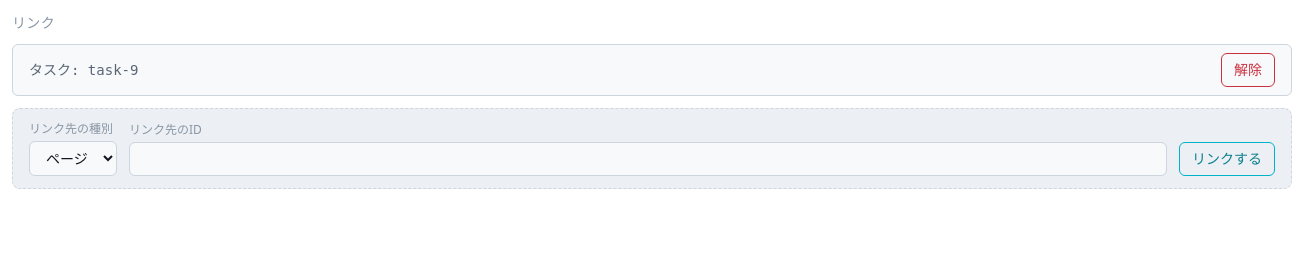
it: EntityLinks › 対象のリンクが既に無い場合はエラーメッセージを表示する
Expected: the text "タスク: task-9" is shown, [29, 60, 138, 80]
What coordinates should you click on to do the following:
click the button "解除"
I would click on:
 (1248, 70)
Its box is [1221, 53, 1275, 87].
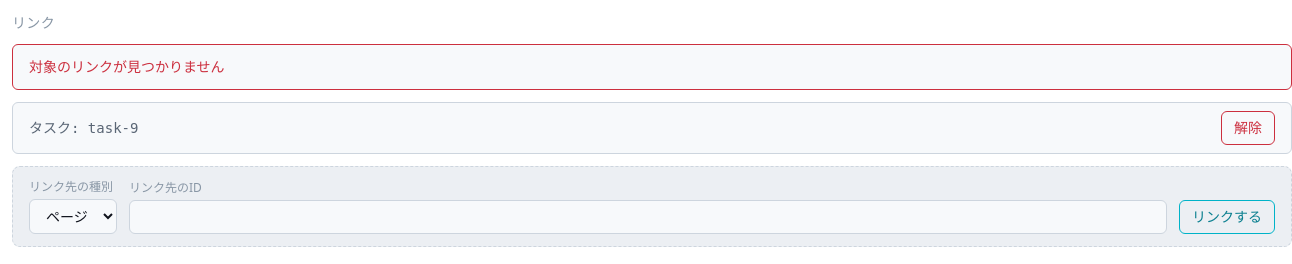
Now the message "対象のリンクが見つかりません" is shown, box [12, 44, 1291, 90]
